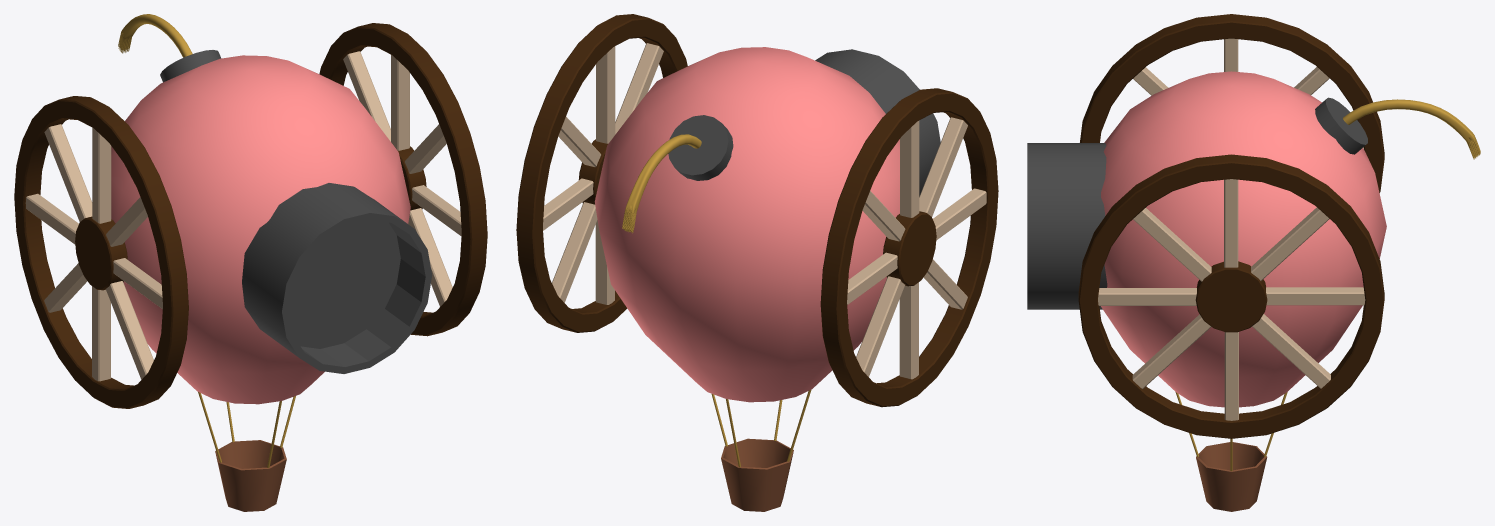
The model's file is Lv4_FB_Cannon_Shooter.FBX.
The picture shows the model from 3 angles, left to right: view 1: azimuth 30°, elevation 25°; view 2: azimuth 150°, elevation 25°; view 3: azimuth 270°, elevation 25°; orthographic projection. The views are drawn at different scales.
Parts seen in each view (by area): view 1: Sphere001, Circle001, Cylinder002, Cylinder001, Line004, Cylinder003, Line003; view 2: Sphere001, Circle001, Cylinder001, Cylinder002, Cylinder003, Line004, Line003; view 3: Sphere001, Circle001, Cylinder002, Cylinder001, Line004, Cylinder003.
Part boxes in pixels (left/top/right/bottom): Sphere001: left=111, top=55, right=410, bottom=404; Circle001: left=14, top=23, right=487, bottom=408; Cylinder002: left=242, top=183, right=432, bottom=373; Cylinder001: left=215, top=440, right=286, bottom=511; Line004: left=118, top=14, right=192, bottom=57; Cylinder003: left=160, top=50, right=221, bottom=82; Line003: left=198, top=392, right=295, bottom=468; Sphere001: left=594, top=47, right=899, bottom=402; Circle001: left=516, top=14, right=998, bottom=407; Cylinder001: left=721, top=438, right=793, bottom=511; Cylinder002: left=815, top=49, right=940, bottom=196; Cylinder003: left=668, top=115, right=733, bottom=180; Line004: left=622, top=134, right=701, bottom=233; Line003: left=711, top=390, right=811, bottom=467; Sphere001: left=1101, top=71, right=1386, bottom=407; Circle001: left=1078, top=14, right=1384, bottom=438; Cylinder002: left=1027, top=143, right=1107, bottom=309; Cylinder001: left=1196, top=442, right=1267, bottom=511; Line004: left=1343, top=99, right=1480, bottom=159; Cylinder003: left=1315, top=97, right=1367, bottom=154.
Size of the model in its own units: 147 by 192 by 190.
